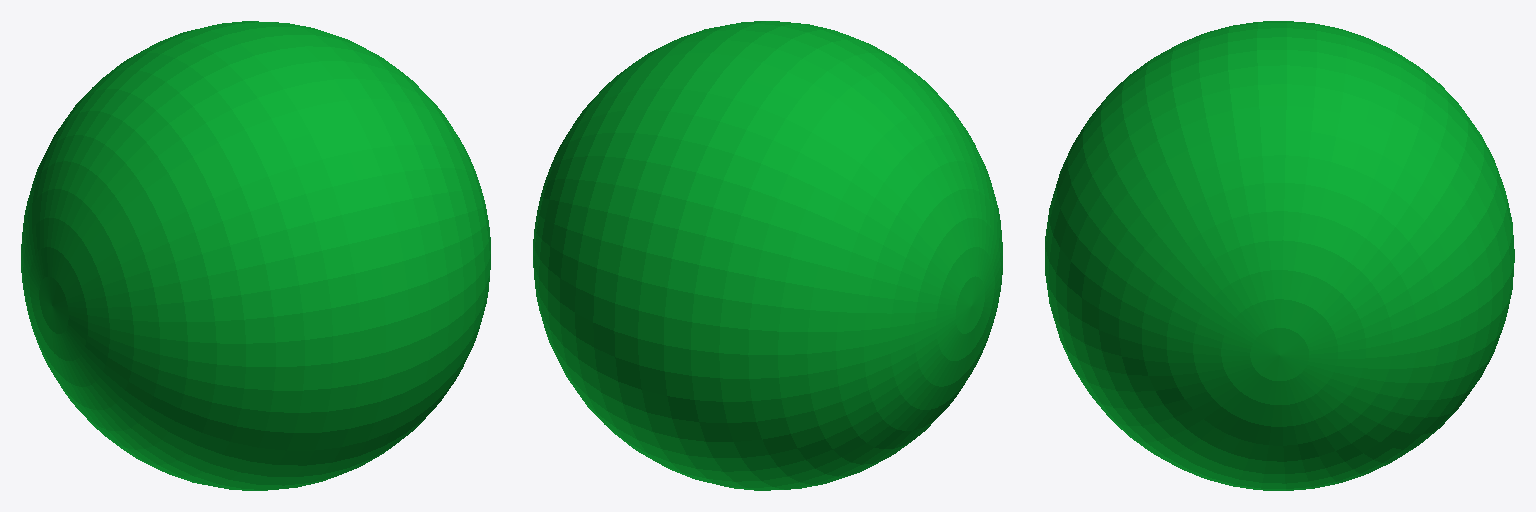
The picture shows the model from 3 angles: view 1: azimuth 30°, elevation 25°; view 2: azimuth 150°, elevation 25°; view 3: azimuth 270°, elevation 25°; orthographic projection.
Visible parts, largest first — view 1: eye; view 2: eye; view 3: eye.
Part boxes in pixels (bbox=[...]): eye: bbox=[21, 21, 490, 490]; eye: bbox=[533, 21, 1002, 490]; eye: bbox=[1045, 21, 1514, 490].
Size of the model in its own units: 3.78 by 3.78 by 3.77.